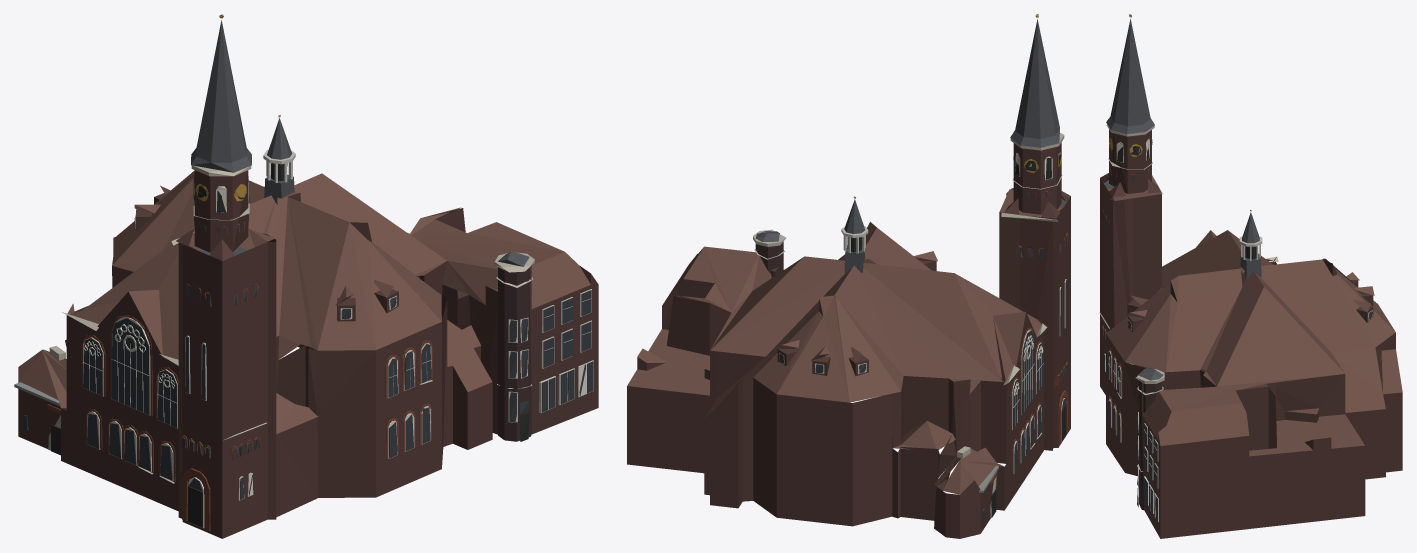
Rendered from oranjekerk-pijp.lod1.glb.
3 renders of one model, left to right at view 1: azimuth 30°, elevation 25°; view 2: azimuth 150°, elevation 25°; view 3: azimuth 270°, elevation 25°, orthographic. The views are drawn at different scales.
Parts seen in each view (by area): view 1: oranjekerk-pijp; view 2: oranjekerk-pijp; view 3: oranjekerk-pijp.
Boxes of the visible parts, x1,y1,x2,y2 form: oranjekerk-pijp: [14, 14, 598, 538]; oranjekerk-pijp: [627, 14, 1070, 538]; oranjekerk-pijp: [1099, 14, 1402, 538].
Bounding box in the file's own units: 46.53 × 47.99 × 34.81.
